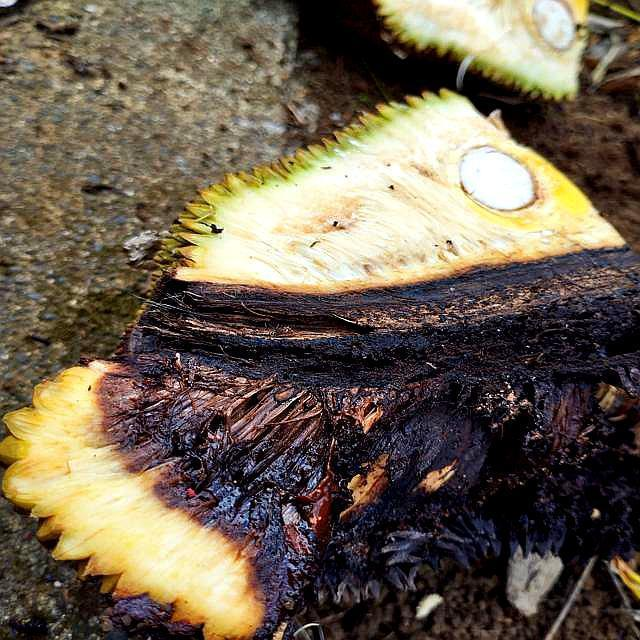Biodegradable: (79, 235, 640, 637)
